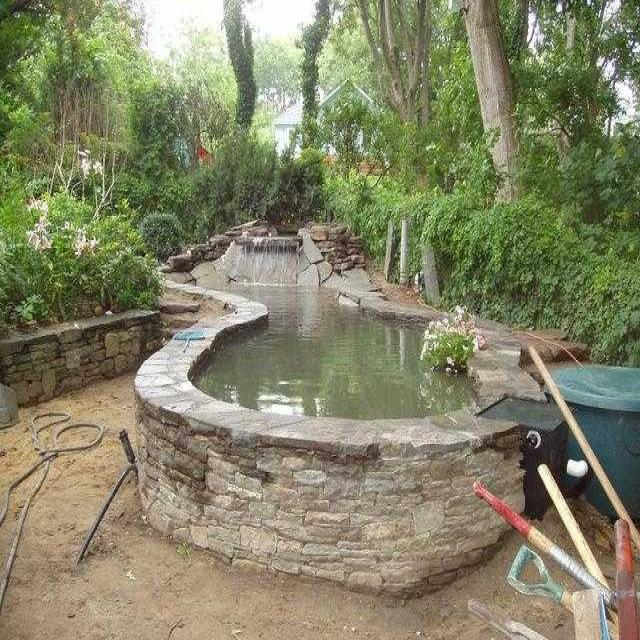Ponds: (137, 221, 551, 462)
